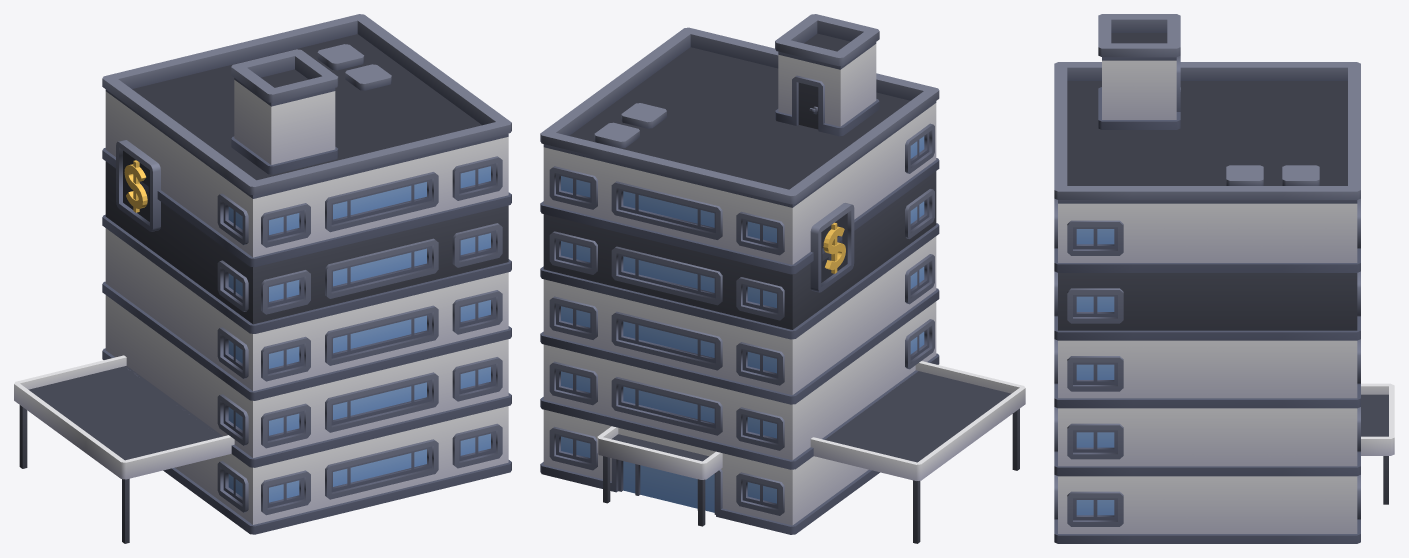
File: building_n_dollar.glb
3 renders of one model, left to right at view 1: azimuth 30°, elevation 25°; view 2: azimuth 150°, elevation 25°; view 3: azimuth 270°, elevation 25°, orthographic. The views are drawn at different scales.
Visible parts, largest first — view 1: building_n_dollar; view 2: building_n_dollar; view 3: building_n_dollar.
Boxes of the visible parts, x1=… form: building_n_dollar: x1=14, y1=14, x2=511, y2=543; building_n_dollar: x1=540, y1=14, x2=1025, y2=543; building_n_dollar: x1=1054, y1=14, x2=1394, y2=543.
Bounding box in the file's own units: 2.32 × 2.48 × 1.82.
2 materials, 1 textured.
